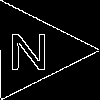N: (8, 25, 49, 70)
